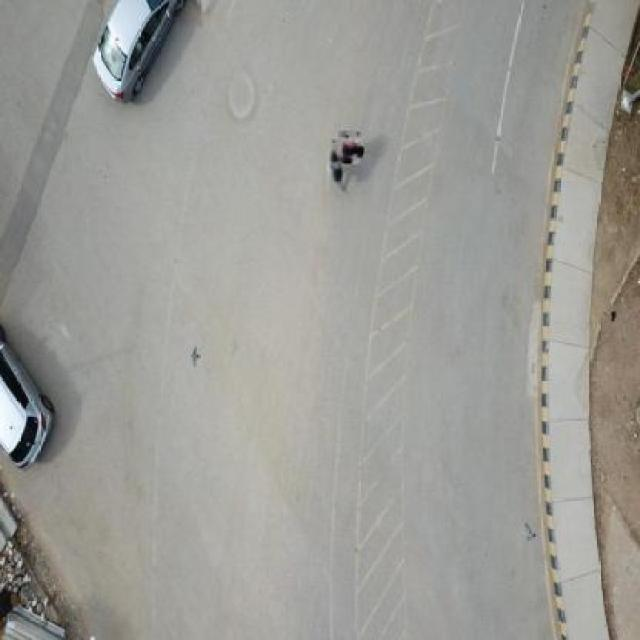Person: (335, 135, 363, 162), (327, 150, 344, 192)
